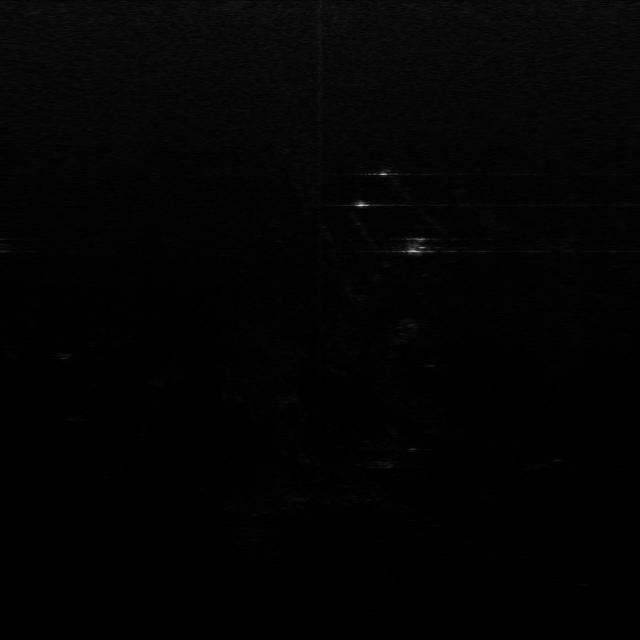rov: (402, 234, 432, 257)
